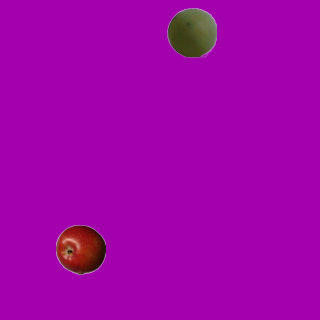Apple Braeburn: (55, 224, 105, 274)
Grape White 4: (166, 7, 216, 57)
